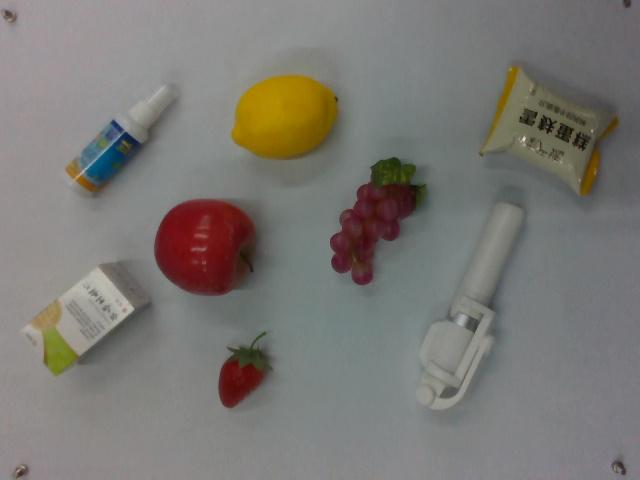apple: (152, 196, 264, 298)
carton: (18, 260, 149, 379)
dessert: (478, 63, 625, 200)
detergent: (64, 77, 182, 202)
grape: (328, 158, 425, 287)
lemon: (231, 73, 339, 163)
selfiestick: (411, 202, 529, 411)
strawberry: (215, 329, 276, 414)
